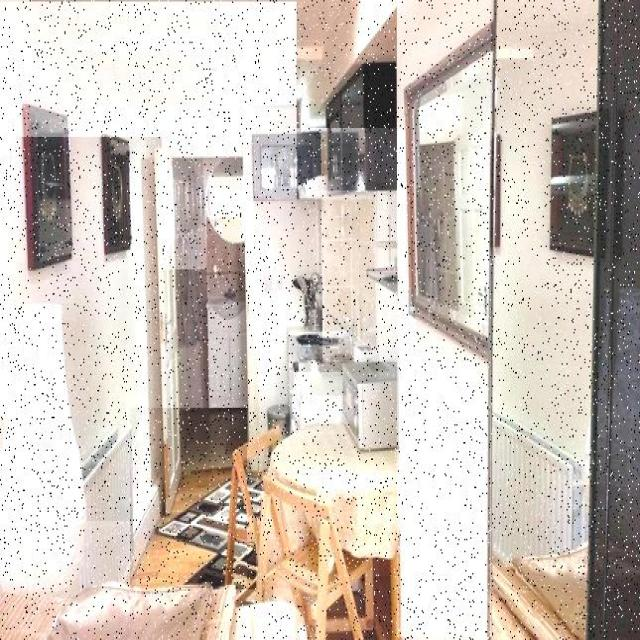Wall: (0, 2, 297, 269), (0, 138, 162, 521), (397, 0, 491, 637), (32, 1, 454, 128), (130, 408, 247, 588), (254, 200, 320, 427), (323, 191, 398, 361), (207, 218, 245, 301), (233, 542, 256, 589), (248, 473, 262, 516), (237, 497, 247, 525)
